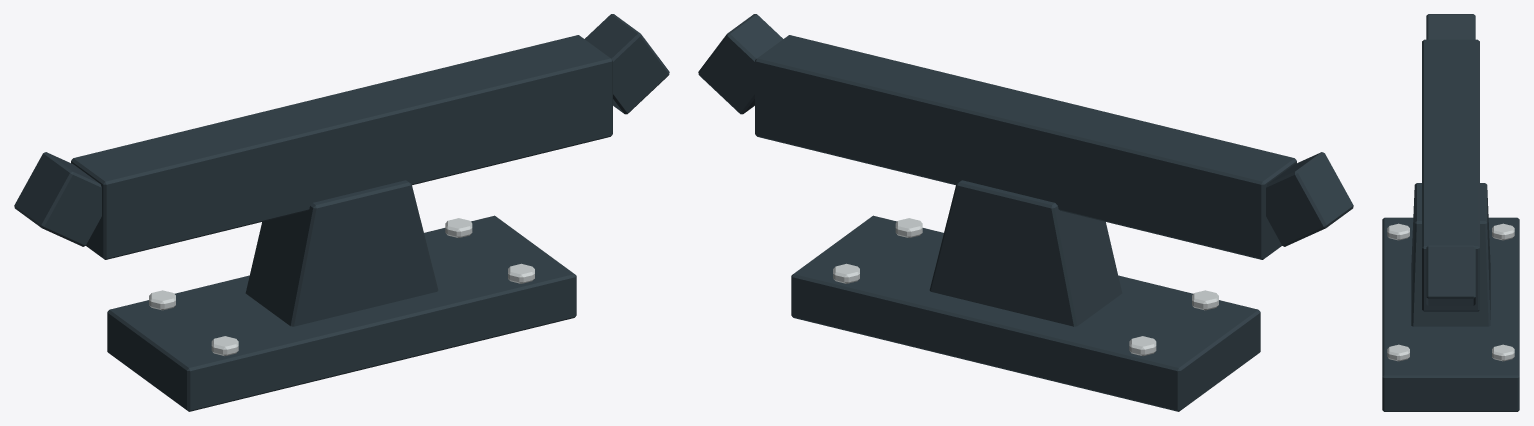
The model's file is b20_cast_dock_mooring_cleat.glb.
The picture shows the model from 3 angles, left to right: view 1: azimuth 30°, elevation 25°; view 2: azimuth 150°, elevation 25°; view 3: azimuth 270°, elevation 25°; orthographic projection. The views are drawn at different scales.
Visible parts, largest first — view 1: b20_cast_dock_mooring_cleat; view 2: b20_cast_dock_mooring_cleat; view 3: b20_cast_dock_mooring_cleat.
Part boxes in pixels (x1,y1,x2,y2): b20_cast_dock_mooring_cleat: (14, 14, 669, 411); b20_cast_dock_mooring_cleat: (698, 14, 1353, 411); b20_cast_dock_mooring_cleat: (1382, 14, 1519, 411).
Size of the model in its own units: 0.8384 by 0.3096 by 0.19.
